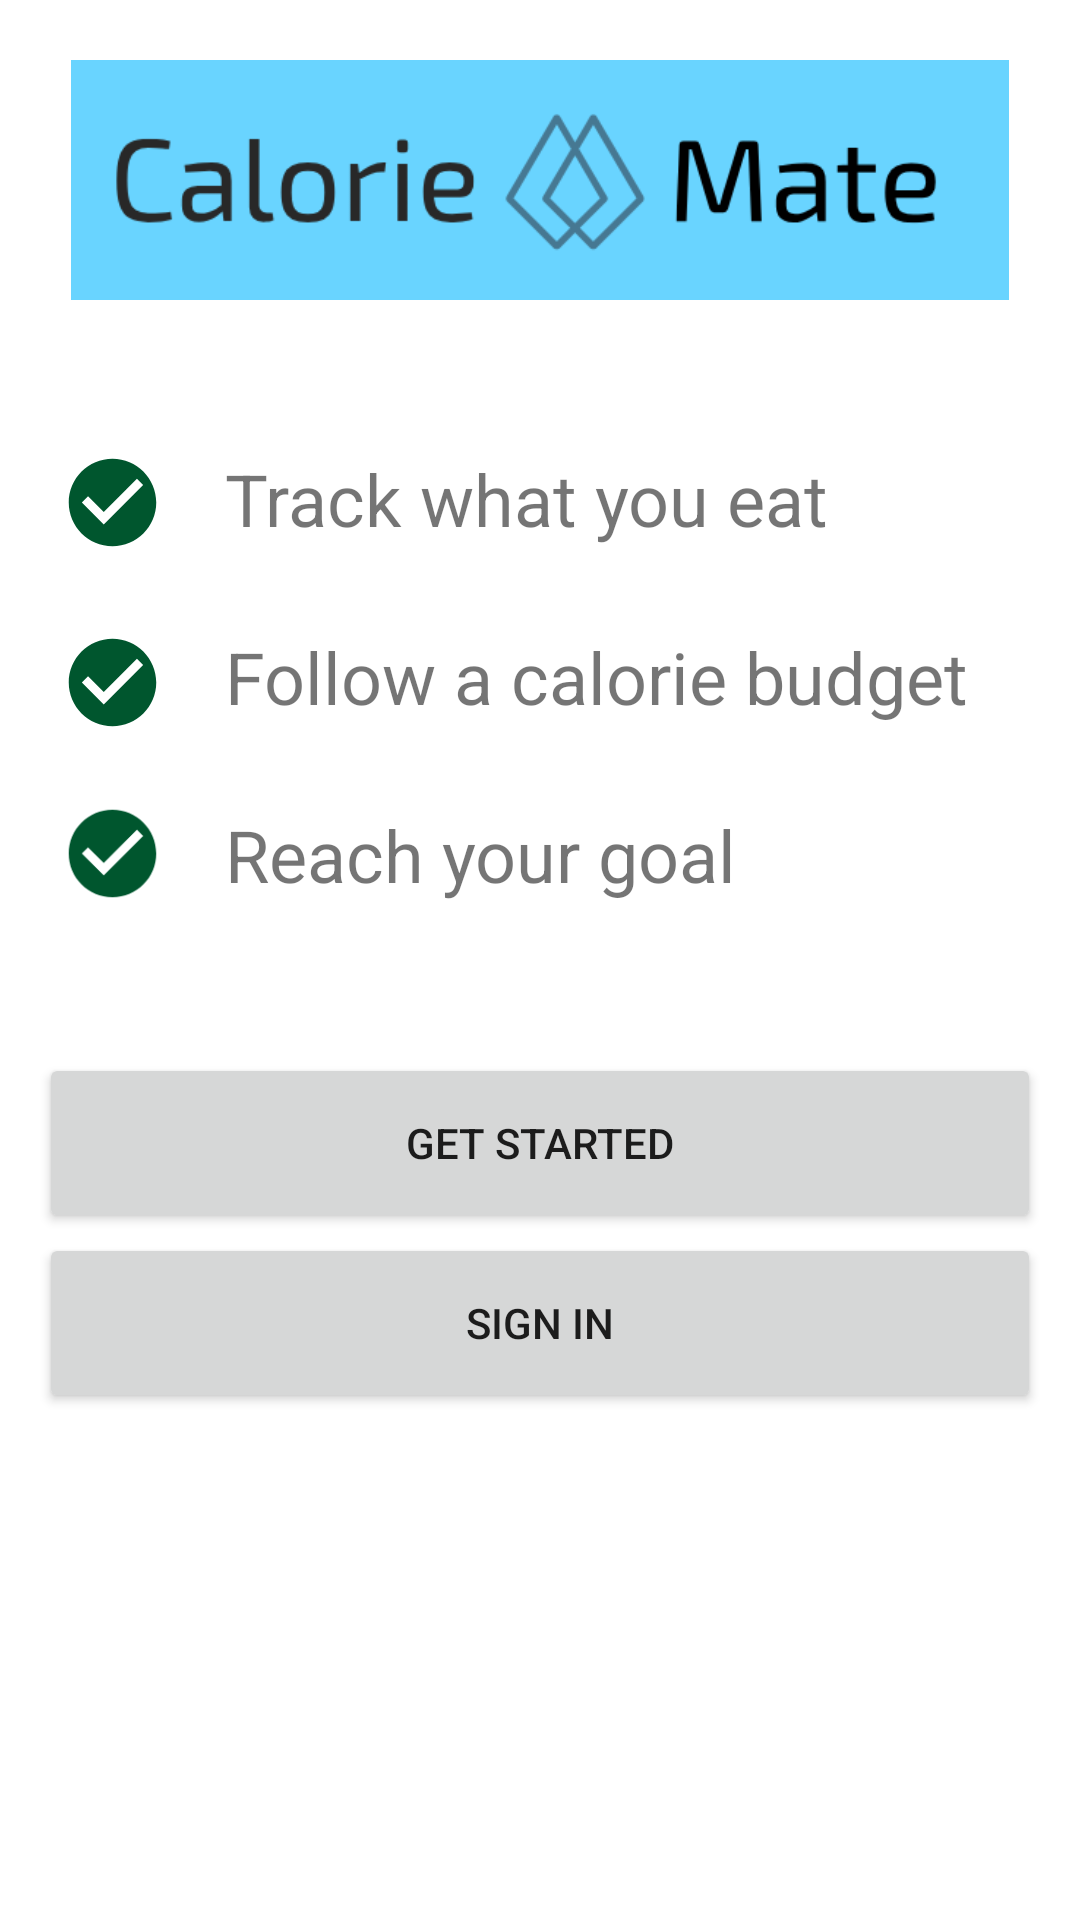

Point at icon controls on the screen. Image size 1080x1920, points as point (x, y).
check circle: point (112, 502), point (112, 682), point (112, 853)
